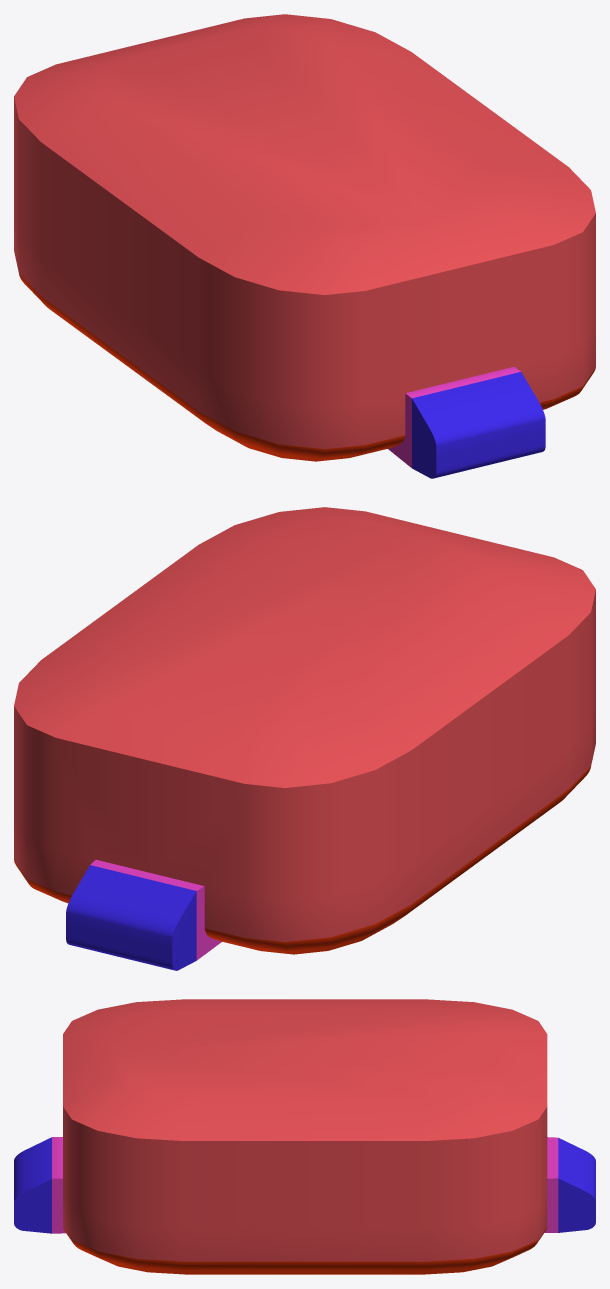
The model's file is Stadium.fbx.
3 views of the same model, one above another, from view 1: azimuth 30°, elevation 25°; view 2: azimuth 150°, elevation 25°; view 3: azimuth 270°, elevation 25° (orthographic). The views are drawn at different scales.
Visible parts, largest first — view 1: Map; view 2: Map; view 3: Map.
Boxes of the visible parts, x1,y1,x2,y2 form: Map: (14, 14, 595, 478); Map: (14, 507, 595, 970); Map: (14, 999, 595, 1274).
Size of the model in its own units: 8881 by 4665 by 15439.
